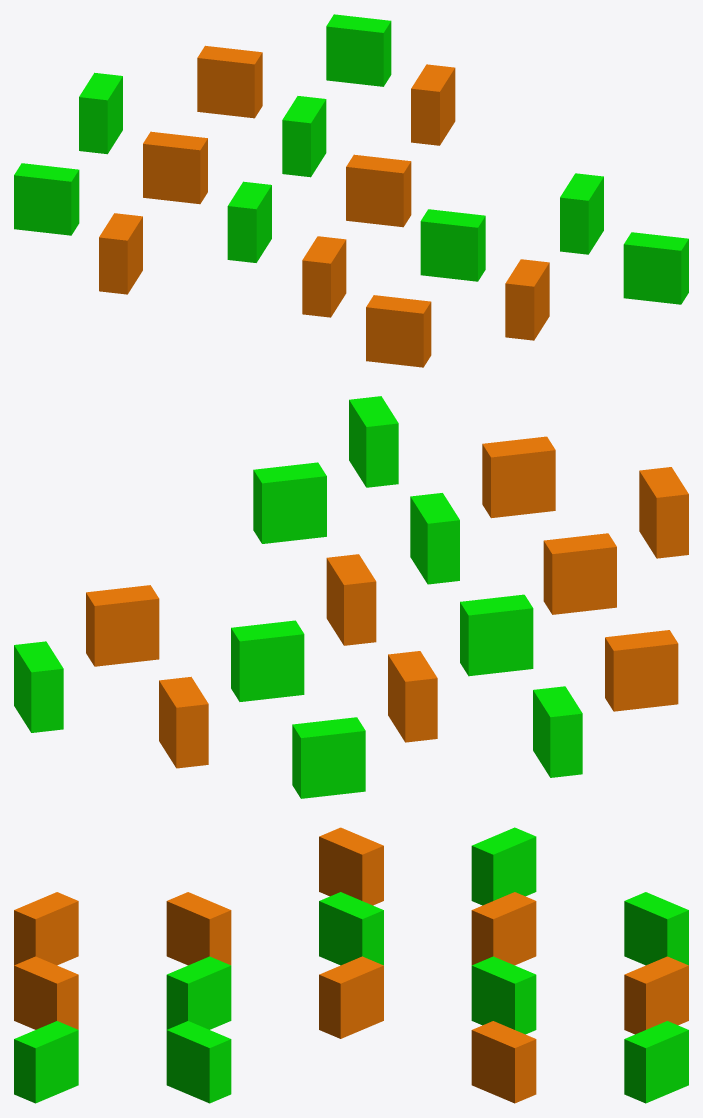
File: bekkering_v1.dae
3 renders of one model, top to bottom at view 1: azimuth 30°, elevation 25°; view 2: azimuth 150°, elevation 25°; view 3: azimuth 270°, elevation 25°, orthographic. The views are drawn at different scales.
Parts seen in each view (by area): view 1: Cube.022, Cube.021, Cube.017, Cube.023, Cube.020, Cube.014, Cube.019, Cube.018, Cube.015, Cube.002, Cube.011, Cube.001 (+4 smaller); view 2: Cube.009, Cube.007, Cube.024, Cube.002, Cube.011, Cube.015, Cube.001, Cube.010, Cube.019, Cube.022, Cube.014, Cube.020 (+4 smaller); view 3: Cube.001, Cube.009, Cube.023, Cube.019, Cube.014, Cube.002, Cube.022, Cube.020, Cube.010, Cube.021, Cube.018, Cube.011 (+4 smaller).
Part boxes in pixels (left/top/right/bottom): Cube.022: left=14, top=163, right=79, bottom=235; Cube.021: left=420, top=209, right=485, bottom=281; Cube.017: left=366, top=295, right=431, bottom=367; Cube.023: left=326, top=14, right=391, bottom=86; Cube.020: left=197, top=45, right=262, bottom=118; Cube.014: left=623, top=232, right=688, bottom=304; Cube.019: left=346, top=154, right=411, bottom=227; Cube.018: left=143, top=131, right=207, bottom=204; Cube.015: left=505, top=259, right=549, bottom=340; Cube.002: left=282, top=96, right=326, bottom=177; Cube.011: left=302, top=236, right=346, bottom=317; Cube.001: left=411, top=64, right=455, bottom=145; Cube.009: left=253, top=462, right=326, bottom=543; Cube.007: left=460, top=594, right=533, bottom=676; Cube.024: left=292, top=717, right=365, bottom=798; Cube.002: left=231, top=620, right=304, bottom=701; Cube.011: left=543, top=533, right=616, bottom=614; Cube.015: left=482, top=436, right=555, bottom=518; Cube.001: left=86, top=585, right=159, bottom=666; Cube.010: left=605, top=630, right=678, bottom=711; Cube.019: left=326, top=554, right=376, bottom=645; Cube.022: left=533, top=686, right=582, bottom=777; Cube.014: left=349, top=396, right=398, bottom=487; Cube.020: left=159, top=676, right=208, bottom=768; Cube.001: left=471, top=1021, right=536, bottom=1103; Cube.009: left=166, top=1021, right=231, bottom=1103; Cube.023: left=624, top=1021, right=688, bottom=1103; Cube.019: left=319, top=956, right=383, bottom=1038; Cube.014: left=14, top=1021, right=78, bottom=1103; Cube.002: left=471, top=956, right=536, bottom=1034; Cube.022: left=471, top=827, right=536, bottom=905; Cube.020: left=624, top=956, right=688, bottom=1034; Cube.010: left=319, top=827, right=383, bottom=905; Cube.021: left=166, top=956, right=231, bottom=1029; Cube.018: left=471, top=892, right=536, bottom=965; Cube.011: left=166, top=892, right=231, bottom=965.
Bounding box in the file's own units: 34.24 × 44.24 × 4.
